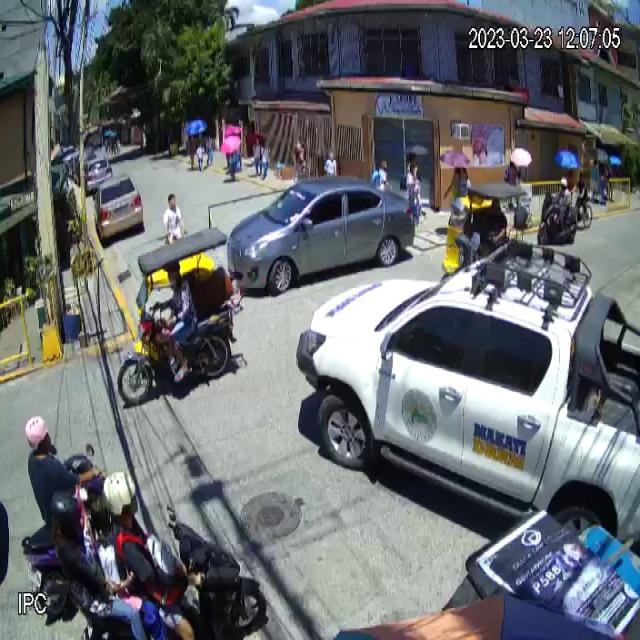Car: (296, 248, 640, 550), (228, 174, 415, 297), (94, 174, 144, 242)
Tricycle: (114, 240, 238, 401), (442, 184, 528, 280)
